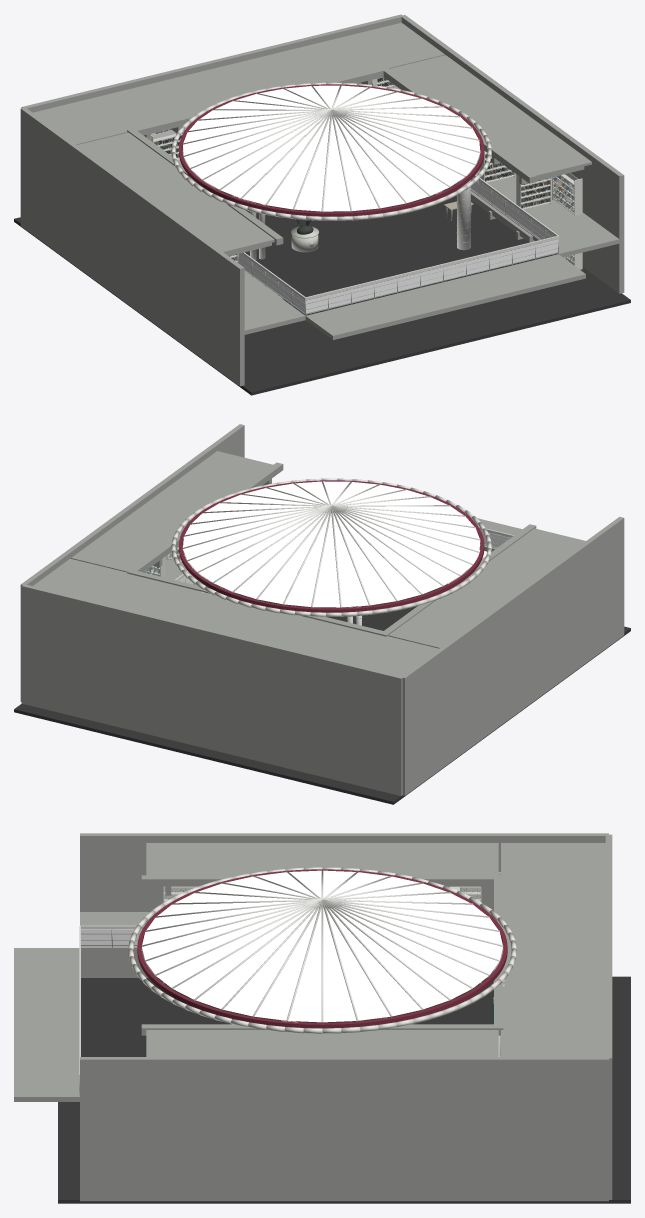
The model's file is library.glb.
3 views of the same model, one above another, from view 1: azimuth 30°, elevation 25°; view 2: azimuth 150°, elevation 25°; view 3: azimuth 270°, elevation 25° (orthographic). The views are drawn at different scales.
Visible parts, largest first — view 1: library / original geometry / Raw light-gray concrete, library / original geometry / Graphite gray carpet, library / original geometry / Diffuse daylight roof glazing, library / original geometry / Warm-white painted columns and, library / original geometry / Gallery glass transparent appr, library / original geometry / Skylight deep red ring, library / original geometry / Satin aluminum rail, library / original geometry / Light round sculpture pedestal; view 2: library / original geometry / Raw light-gray concrete, library / original geometry / Diffuse daylight roof glazing, library / original geometry / Warm-white painted columns and, library / original geometry / Graphite gray carpet, library / original geometry / Skylight deep red ring; view 3: library / original geometry / Raw light-gray concrete, library / original geometry / Diffuse daylight roof glazing, library / original geometry / Graphite gray carpet, library / original geometry / Warm-white painted columns and, library / original geometry / Skylight deep red ring, library / original geometry / Gallery glass transparent appr.
Boxes of the visible parts, x1,y1,x2,y2 form: library / original geometry / Raw light-gray concrete: (20,14,624,386); library / original geometry / Graphite gray carpet: (14,186,630,395); library / original geometry / Diffuse daylight roof glazing: (183,85,480,211); library / original geometry / Warm-white painted columns and: (151,77,582,300); library / original geometry / Gallery glass transparent appr: (180,160,558,314); library / original geometry / Skylight deep red ring: (179,84,484,216); library / original geometry / Satin aluminum rail: (187,163,558,315); library / original geometry / Light round sculpture pedestal: (291,226,318,252); library / original geometry / Raw light-gray concrete: (20,424,624,795); library / original geometry / Diffuse daylight roof glazing: (183,481,480,607); library / original geometry / Warm-white painted columns and: (145,478,513,625); library / original geometry / Graphite gray carpet: (14,582,630,804); library / original geometry / Skylight deep red ring: (179,480,484,612); library / original geometry / Raw light-gray concrete: (14,833,612,1201); library / original geometry / Diffuse daylight roof glazing: (142,870,502,1022); library / original geometry / Graphite gray carpet: (58,976,630,1203); library / original geometry / Warm-white painted columns and: (79,867,516,1077); library / original geometry / Skylight deep red ring: (137,869,507,1028); library / original geometry / Gallery glass transparent appr: (81,929,141,946).
Size of the model in its own units: 24.3 by 9.62 by 28.
